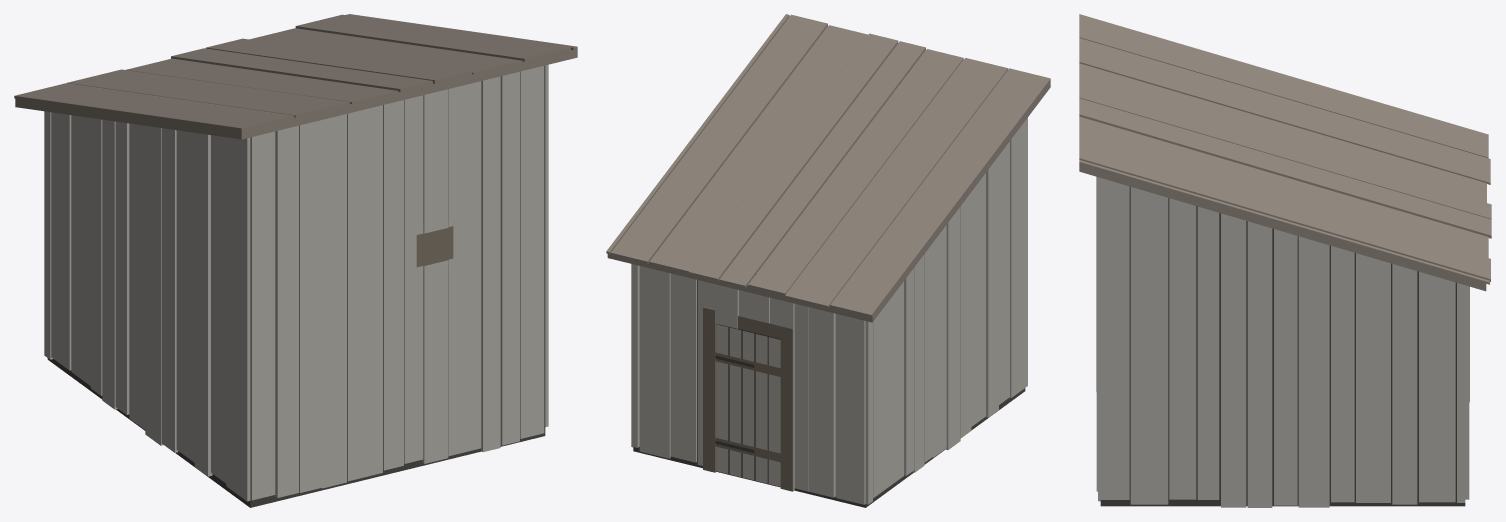
The model's file is recon_1835_north_a5_049__inferred_1835.glb.
3 renders of one model, left to right at view 1: azimuth 30°, elevation 25°; view 2: azimuth 150°, elevation 25°; view 3: azimuth 270°, elevation 25°, orthographic. The views are drawn at different scales.
Parts seen in each view (by area): view 1: recon_1835_north_a5_049__inferred_1835; view 2: recon_1835_north_a5_049__inferred_1835; view 3: recon_1835_north_a5_049__inferred_1835.
Boxes of the visible parts, x1,y1,x2,y2 form: recon_1835_north_a5_049__inferred_1835: [14, 14, 577, 507]; recon_1835_north_a5_049__inferred_1835: [606, 14, 1050, 507]; recon_1835_north_a5_049__inferred_1835: [1079, 14, 1491, 507].
Bounding box in the file's own units: 3.48 × 3.9 × 4.11.
